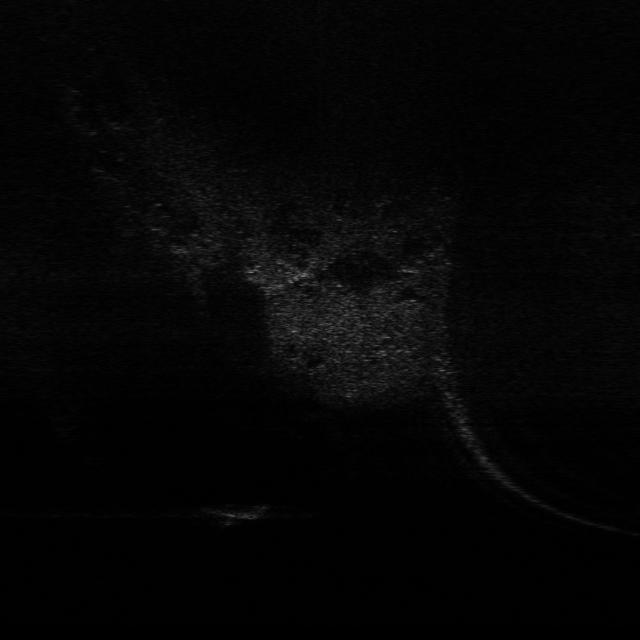cube: (189, 502, 272, 525)
